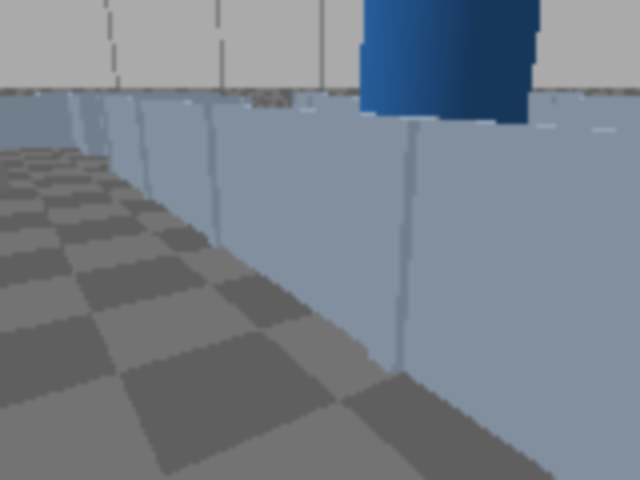obstacle: (0, 160, 11, 195)
